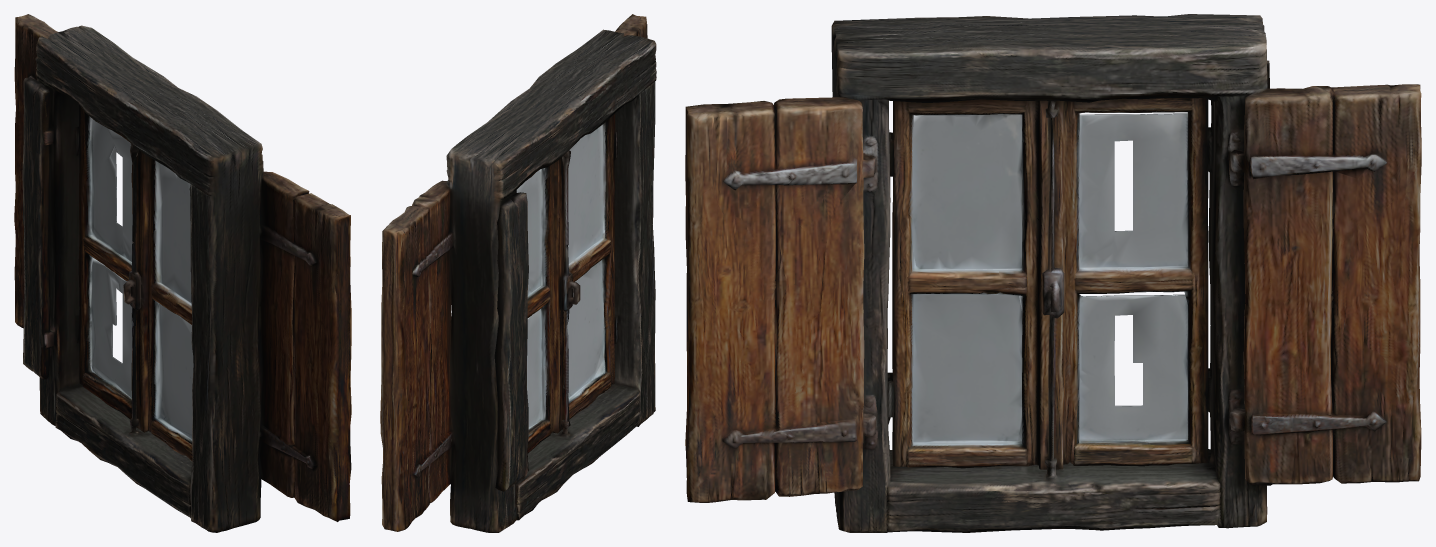
3 views of the same model, side by side, from view 1: azimuth 30°, elevation 25°; view 2: azimuth 150°, elevation 25°; view 3: azimuth 270°, elevation 25° (orthographic). The views are drawn at different scales.
Visible parts, largest first — view 1: tripo_node_9d5c860c-6943-43f3-acf4-9a3fde34ed23; view 2: tripo_node_9d5c860c-6943-43f3-acf4-9a3fde34ed23; view 3: tripo_node_9d5c860c-6943-43f3-acf4-9a3fde34ed23.
Part boxes in pixels (box(x1,y1,x2,y2)): tripo_node_9d5c860c-6943-43f3-acf4-9a3fde34ed23: box(14, 14, 351, 532); tripo_node_9d5c860c-6943-43f3-acf4-9a3fde34ed23: box(380, 14, 656, 532); tripo_node_9d5c860c-6943-43f3-acf4-9a3fde34ed23: box(685, 14, 1421, 532).
Bounding box in the file's own units: 0.2113 × 0.7179 × 0.9801.
1 material, 1 textured.
